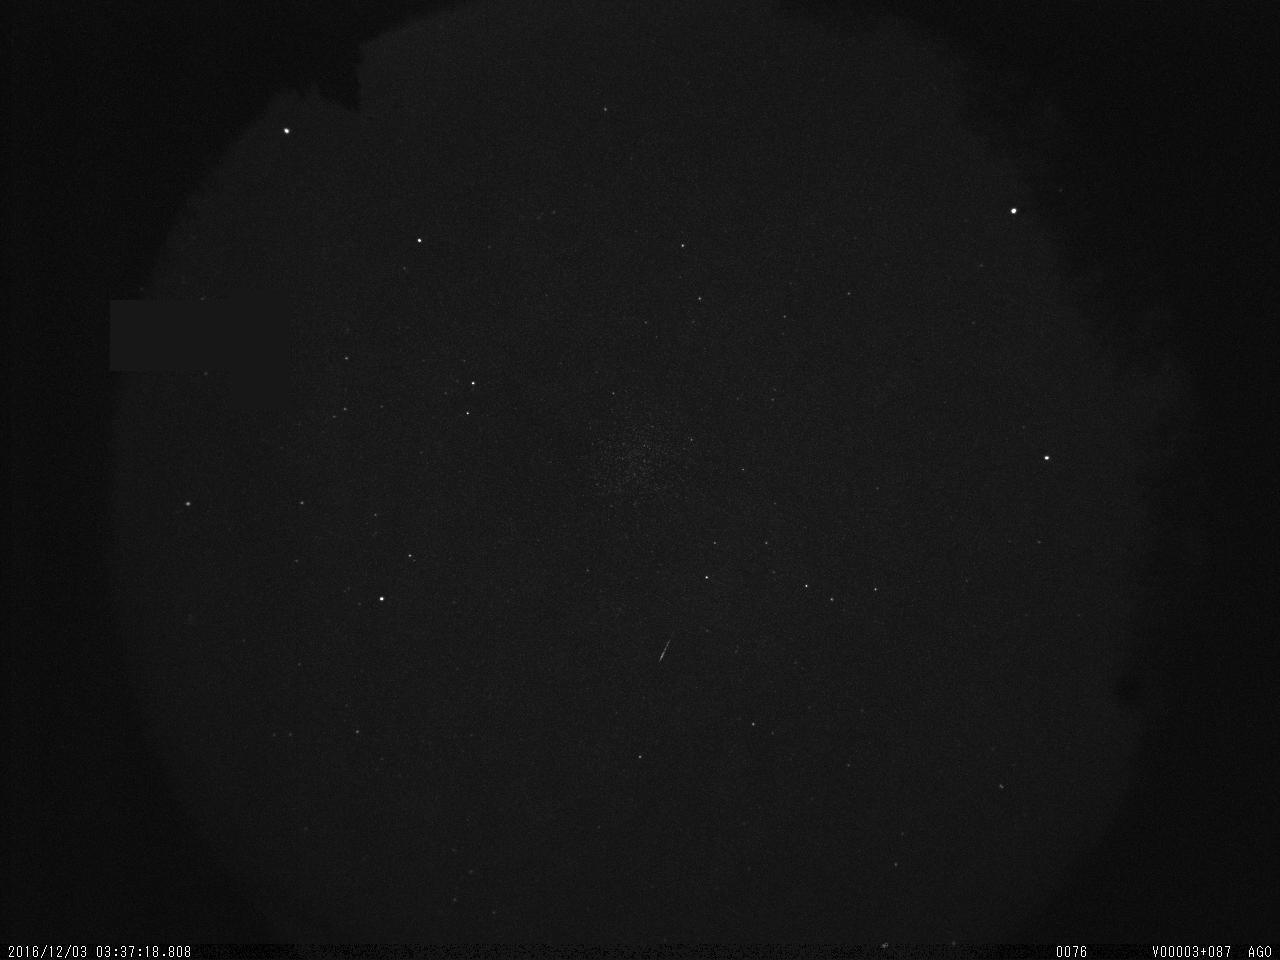meteor: (650, 624, 686, 671)
